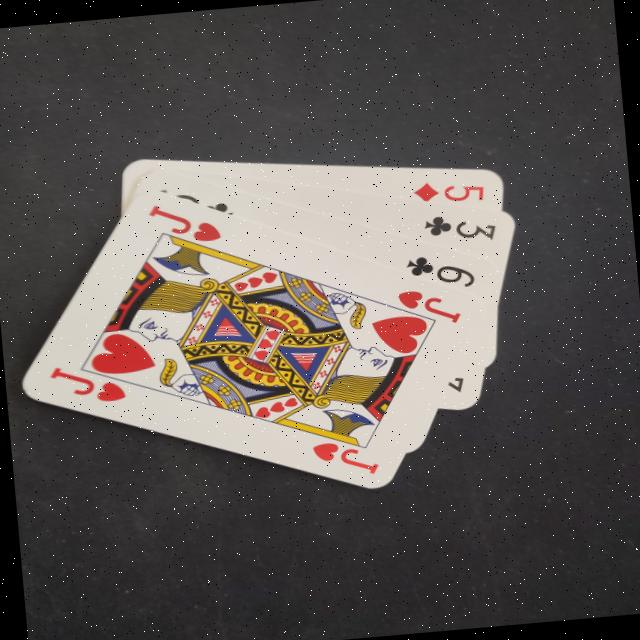3c: (415, 206, 504, 251)
5d: (406, 171, 491, 212)
6c: (394, 243, 476, 294)
Jh: (46, 356, 136, 414), (146, 194, 230, 253), (306, 429, 382, 482), (390, 282, 464, 330)
